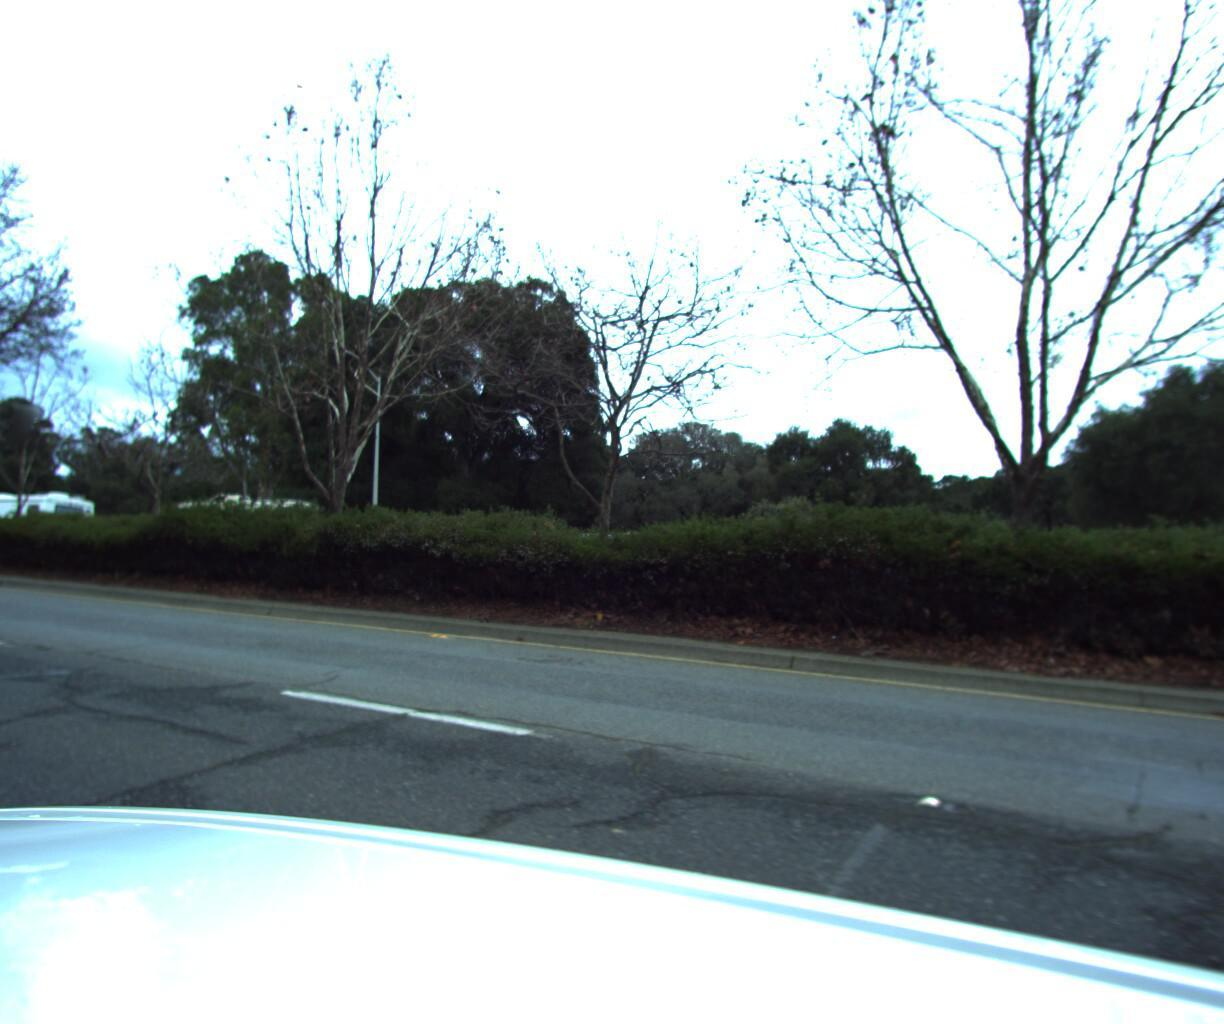other_vehicle: (149, 487, 325, 563), (0, 485, 99, 554)
